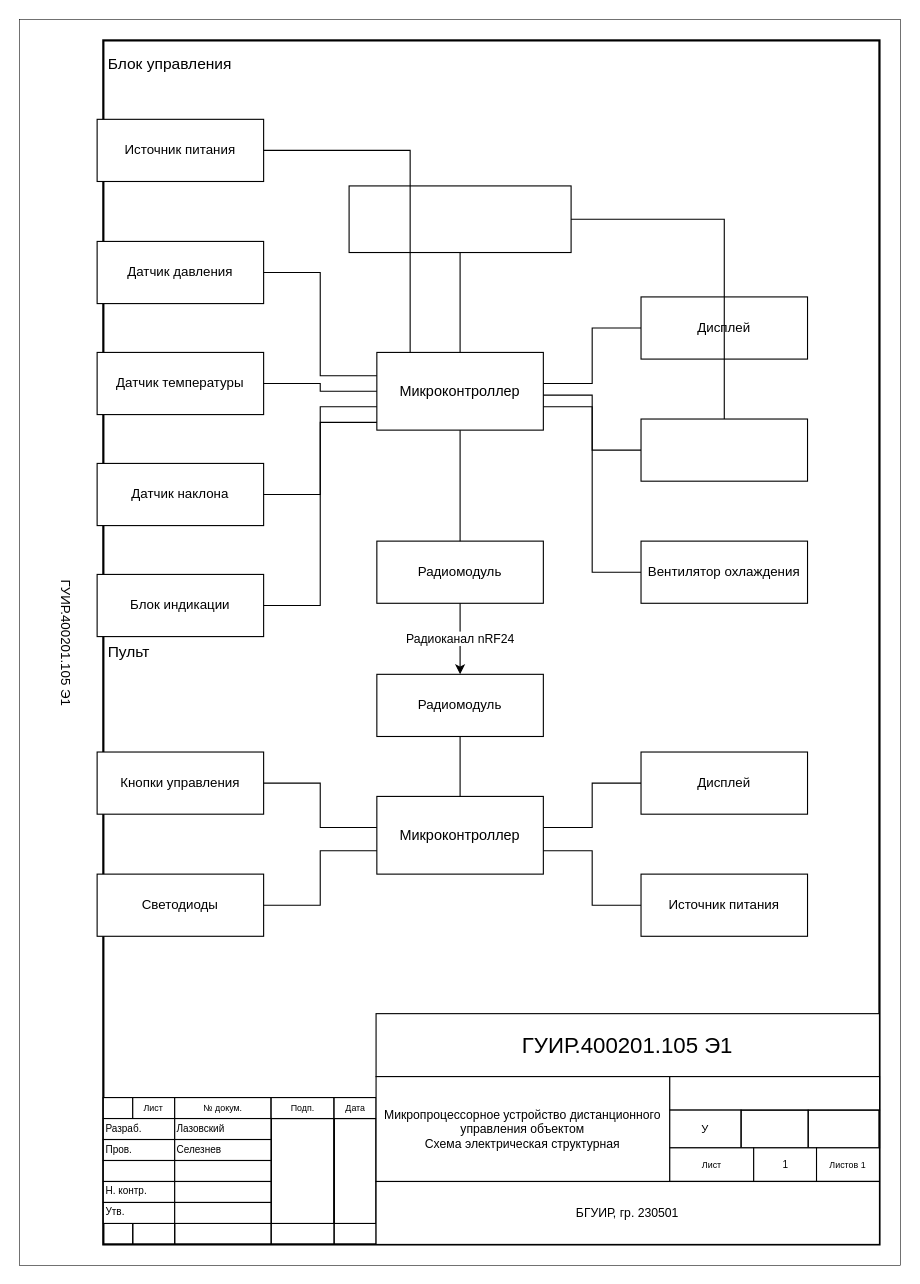
Image size: 920x1284. Some labels were removed from this diagram. The shapes that lost their labels are listed below. From the top down, each one's centre as x and y in pixels, then its label:
At (x=459, y=219): "Исполнительные устройства (электролизер, клапан, поджиг)".
At (x=724, y=449): "Модуль реле".
At (x=117, y=1107): "Изм".
At (x=774, y=1092): "Лит. Масса Масштаб".
